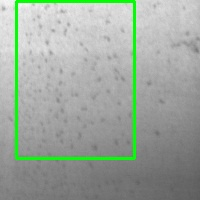pitted_surface: (16, 1, 134, 158)
